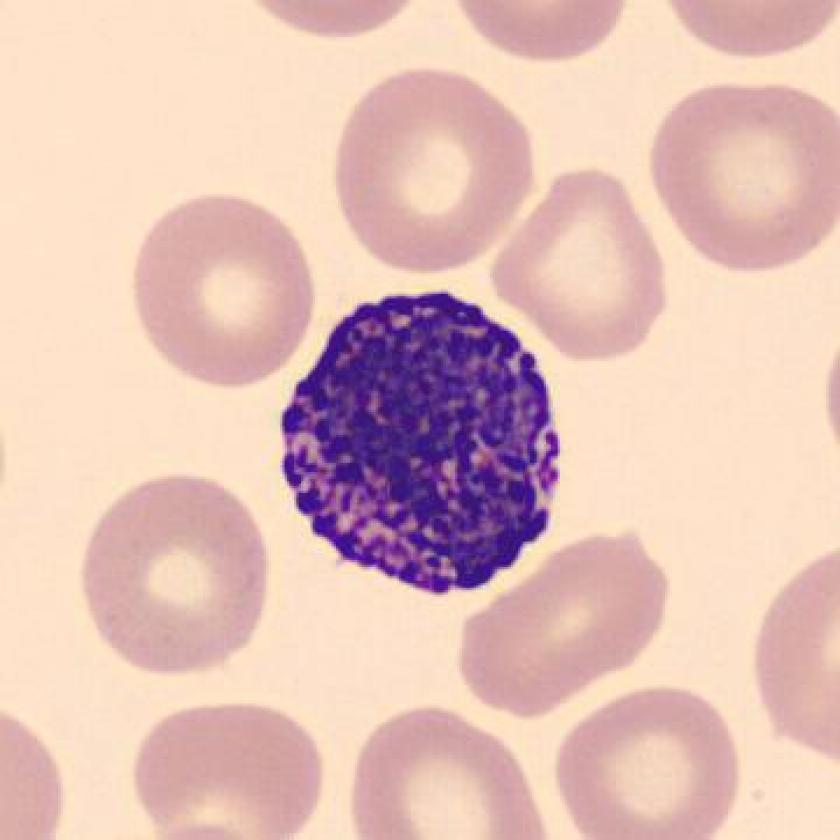basophil: (267, 286, 580, 612)
